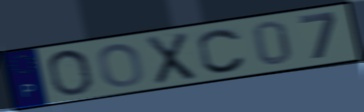0: (250, 19, 295, 68)
7: (296, 10, 341, 62)
C: (196, 27, 248, 75)
O: (45, 47, 96, 97), (96, 42, 146, 89)
X: (144, 30, 198, 86)
